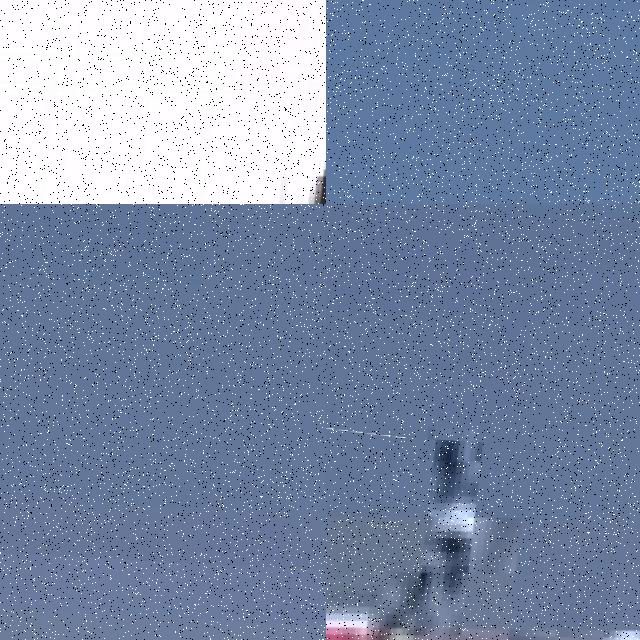drone: (0, 0, 326, 204), (326, 432, 640, 640)
